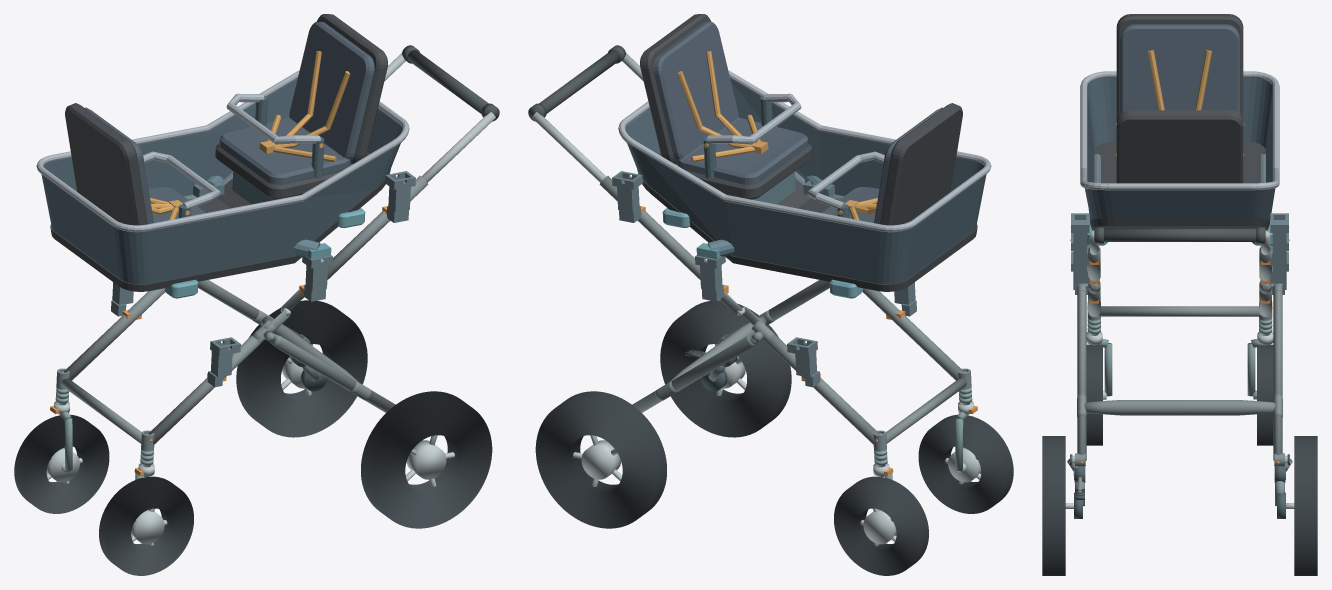
The model's file is S11_w550_state1_wheel_L.glb.
The picture shows the model from 3 angles, left to right: view 1: azimuth 30°, elevation 25°; view 2: azimuth 150°, elevation 25°; view 3: azimuth 270°, elevation 25°; orthographic projection.
Visible parts, largest first — view 1: S11_Cabin, RL_tire.002, RR_tire.002, FL_tire.002, FR_tire.002, main_lower_1.003, V46_rear_leg_-1.003, main_lower_-1.003, round_handle.002, main_upper_-1.003, Universal_Cabin_Receiver_H_-1, RL_sealed_hub.002 (+9 smaller); view 2: S11_Cabin, RR_tire.002, RL_tire.002, FR_tire.002, FL_tire.002, main_lower_-1.003, V46_rear_leg_1.003, main_lower_1.003, round_handle.002, main_upper_1.003, Universal_Cabin_Receiver_H_1, RR_sealed_hub.002 (+9 smaller); view 3: S11_Cabin, RL_tire.002, RR_tire.002, V46_rearbar.003, round_handle.002, front_fixed_round_tube.002, FL_tire.002, FR_tire.002, V46_rear_leg_1.003, V46_rear_leg_-1.003, Universal_Cabin_Receiver_H_1, Universal_Cabin_Receiver_H_-1 (+4 smaller).
Part boxes in pixels (x1=…): S11_Cabin: x1=36, y1=14, x2=409, y2=298; RL_tire.002: x1=361, y1=391, x2=492, y2=528; RR_tire.002: x1=236, y1=300, x2=367, y2=437; FL_tire.002: x1=99, y1=476, x2=193, y2=575; FR_tire.002: x1=14, y1=414, x2=109, y2=513; main_lower_1.003: x1=64, y1=288, x2=164, y2=380; V46_rear_leg_-1.003: x1=272, y1=335, x2=395, y2=412; main_lower_-1.003: x1=148, y1=335, x2=263, y2=444; round_handle.002: x1=407, y1=50, x2=498, y2=119; main_upper_-1.003: x1=327, y1=176, x2=428, y2=279; Universal_Cabin_Receiver_H_-1: x1=385, y1=171, x2=415, y2=222; RL_sealed_hub.002: x1=406, y1=440, x2=446, y2=479; S11_Cabin: x1=618, y1=14, x2=991, y2=298; RR_tire.002: x1=535, y1=391, x2=666, y2=528; RL_tire.002: x1=660, y1=300, x2=791, y2=437; FR_tire.002: x1=834, y1=476, x2=928, y2=575; FL_tire.002: x1=918, y1=414, x2=1013, y2=513; main_lower_-1.003: x1=863, y1=288, x2=963, y2=380; V46_rear_leg_1.003: x1=632, y1=335, x2=755, y2=412; main_lower_1.003: x1=764, y1=335, x2=879, y2=444; round_handle.002: x1=529, y1=50, x2=620, y2=119; main_upper_1.003: x1=599, y1=176, x2=700, y2=279; Universal_Cabin_Receiver_H_1: x1=612, y1=171, x2=642, y2=222; RR_sealed_hub.002: x1=581, y1=440, x2=621, y2=479; S11_Cabin: x1=1080, y1=14, x2=1279, y2=245; RL_tire.002: x1=1042, y1=436, x2=1065, y2=575; RR_tire.002: x1=1294, y1=436, x2=1317, y2=575; V46_rearbar.003: x1=1084, y1=400, x2=1275, y2=415; round_handle.002: x1=1094, y1=228, x2=1265, y2=241; front_fixed_round_tube.002: x1=1099, y1=306, x2=1260, y2=316; FL_tire.002: x1=1086, y1=344, x2=1102, y2=445; FR_tire.002: x1=1257, y1=344, x2=1273, y2=445; V46_rear_leg_1.003: x1=1273, y1=289, x2=1282, y2=460; V46_rear_leg_-1.003: x1=1077, y1=289, x2=1086, y2=460; Universal_Cabin_Receiver_H_1: x1=1270, y1=213, x2=1288, y2=265; Universal_Cabin_Receiver_H_-1: x1=1071, y1=213, x2=1089, y2=265.
Bounding box in the file's own units: 1.19 × 1.28 × 0.7071.
